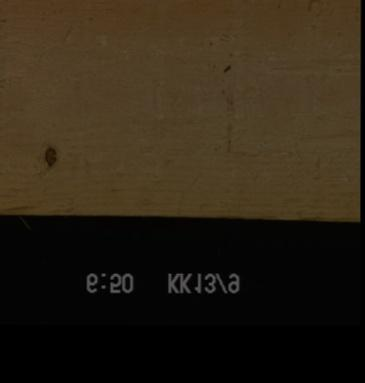dry_knot: (41, 145, 57, 168)
